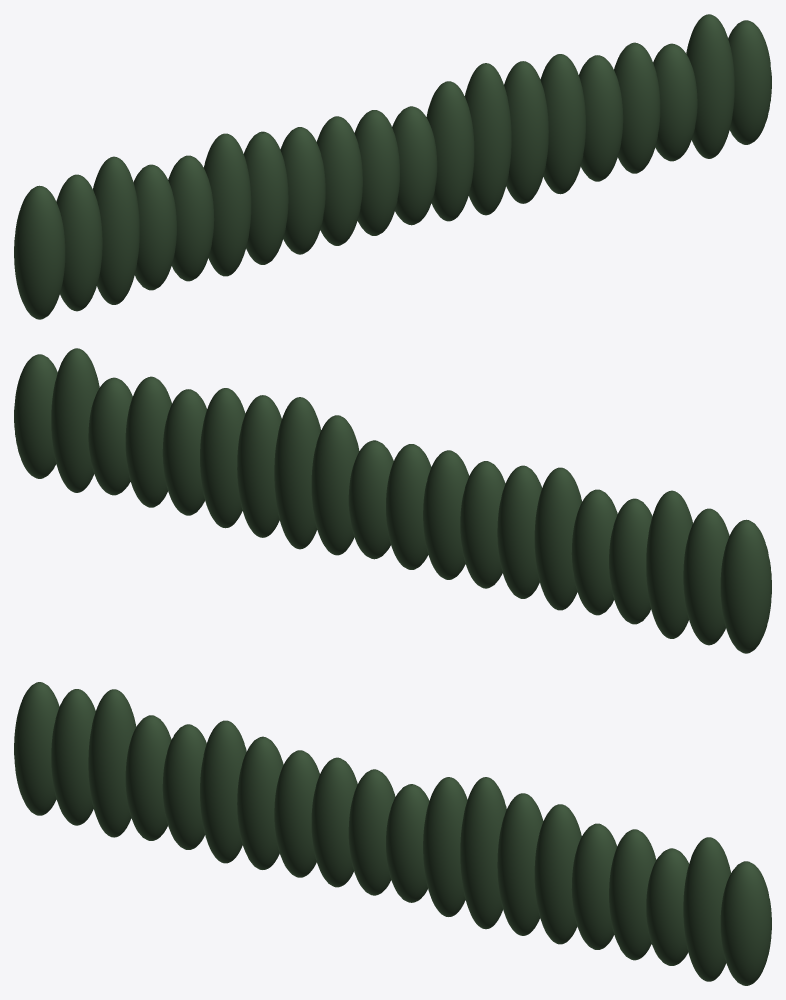
File: f45-treeline-strip.glb
3 views of the same model, one above another, from view 1: azimuth 30°, elevation 25°; view 2: azimuth 150°, elevation 25°; view 3: azimuth 330°, elevation 25° (orthographic).
Visible parts, largest first — view 1: part0; view 2: part0; view 3: part0.
Boxes of the visible parts, x1,y1,x2,y2 form: part0: (14,14,771,319); part0: (14,348,771,653); part0: (14,682,771,985).
Size of the model in its own units: 100998 by 19363 by 5996.
